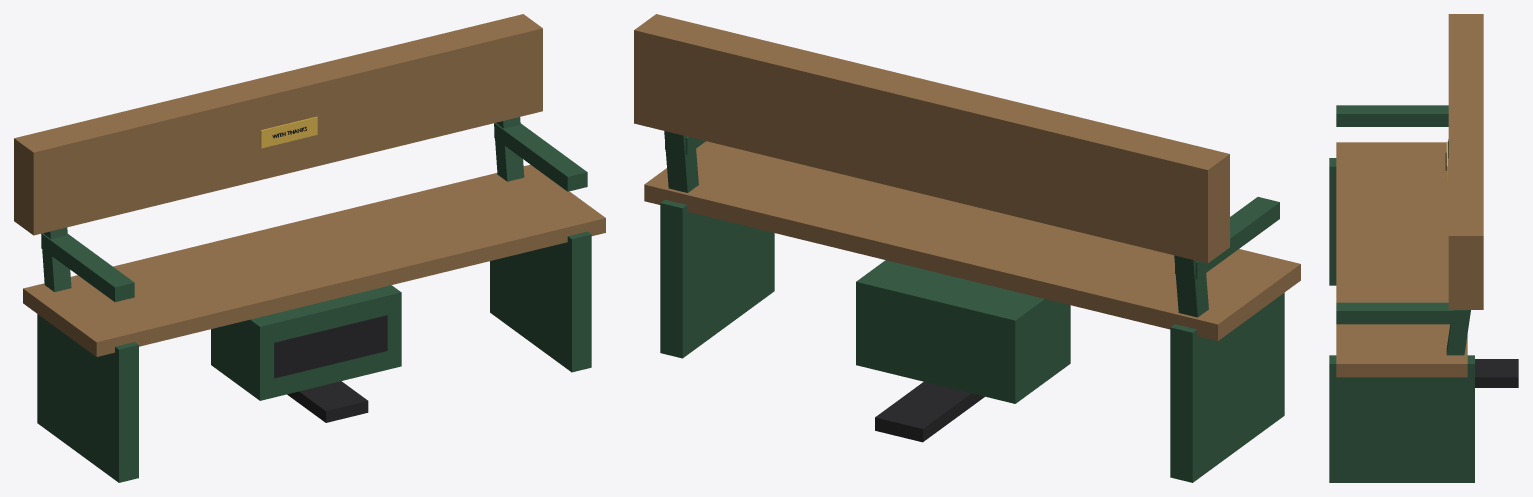
The model's file is mast.small-cell-bench.glb.
The picture shows the model from 3 angles, left to right: view 1: azimuth 30°, elevation 25°; view 2: azimuth 150°, elevation 25°; view 3: azimuth 270°, elevation 25°; orthographic projection. The views are drawn at different scales.
Parts seen in each view (by area): view 1: back-rail, seat, leg-0.8, box, leg0.8, vent, arm-0.8, arm0.8, duct, plaque, back-strut0.8, back-strut-0.8; view 2: back-rail, seat, box, leg-0.8, leg0.8, duct, arm-0.8, back-strut-0.8, back-strut0.8; view 3: seat, leg0.8, back-rail, arm0.8, arm-0.8, duct, leg-0.8, back-strut0.8.
Part boxes in pixels (left/top/right/bottom): back-rail: left=14, top=14, right=542, bottom=235; seat: left=23, top=164, right=605, bottom=356; leg-0.8: left=37, top=314, right=138, bottom=482; box: left=211, top=285, right=401, bottom=400; leg0.8: left=490, top=231, right=591, bottom=372; vent: left=274, top=315, right=387, bottom=378; arm-0.8: left=41, top=233, right=134, bottom=302; arm0.8: left=494, top=123, right=587, bottom=191; duct: left=287, top=381, right=368, bottom=422; plaque: left=260, top=116, right=317, bottom=148; back-strut0.8: left=494, top=117, right=524, bottom=181; back-strut-0.8: left=42, top=227, right=71, bottom=292; back-rail: left=634, top=14, right=1229, bottom=263; seat: left=644, top=141, right=1300, bottom=340; box: left=856, top=260, right=1070, bottom=403; leg-0.8: left=1170, top=293, right=1284, bottom=482; leg0.8: left=660, top=199, right=774, bottom=358; duct: left=875, top=382, right=984, bottom=442; arm-0.8: left=1175, top=197, right=1279, bottom=279; back-strut-0.8: left=1174, top=255, right=1208, bottom=317; back-strut0.8: left=664, top=131, right=698, bottom=192; seat: left=1336, top=142, right=1467, bottom=377; leg0.8: left=1329, top=355, right=1474, bottom=482; back-rail: left=1448, top=14, right=1483, bottom=309; arm0.8: left=1336, top=302, right=1467, bottom=324; arm-0.8: left=1336, top=105, right=1448, bottom=126; duct: left=1475, top=359, right=1518, bottom=387; leg-0.8: left=1329, top=158, right=1336, bottom=285; back-strut0.8: left=1446, top=310, right=1470, bottom=355.
Size of the model in its own units: 1.8 by 0.965 by 0.65.
